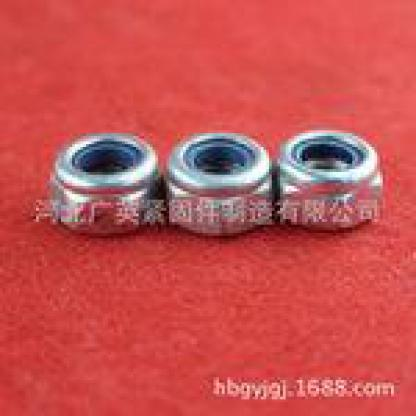FOD: (276, 125, 392, 236), (49, 129, 162, 240), (166, 131, 274, 242)
